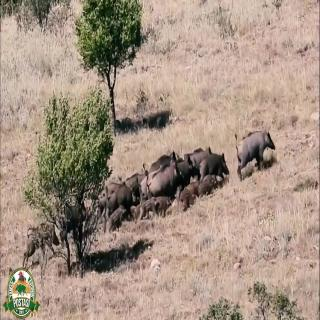Pig: (238, 120, 284, 177), (19, 214, 63, 266), (147, 158, 183, 192), (204, 145, 231, 183), (106, 184, 139, 210), (190, 134, 213, 164), (159, 137, 180, 169), (131, 162, 146, 180)
